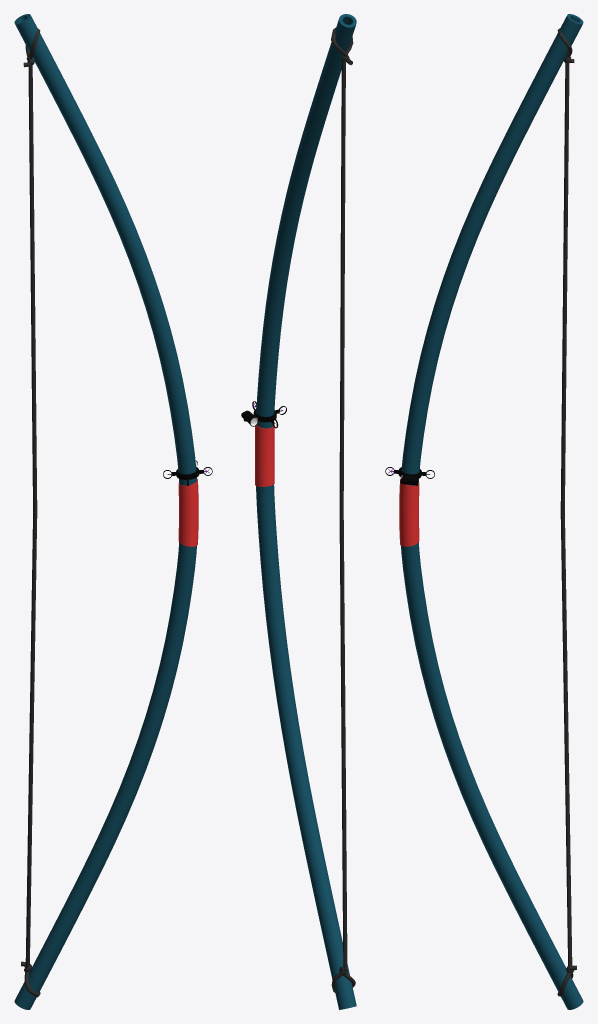
File: Bow.glb
The picture shows the model from 3 angles, left to right: view 1: azimuth 90°, elevation 25°; view 2: azimuth 210°, elevation 25°; view 3: azimuth 270°, elevation 25°; orthographic projection.
Parts seen in each view (by area): view 1: PipeBow, PipeBowString, PipeBowTape; view 2: PipeBow, PipeBowString, PipeBowTape, PipeBowScopeHolder; view 3: PipeBow, PipeBowString, PipeBowTape.
Part boxes in pixels (left/top/right/bottom): PipeBow: left=14, top=14, right=196, bottom=1009; PipeBowString: left=21, top=28, right=40, bottom=997; PipeBowTape: left=178, top=478, right=198, bottom=546; PipeBow: left=256, top=14, right=356, bottom=1009; PipeBowString: left=331, top=27, right=355, bottom=992; PipeBowTape: left=255, top=423, right=274, bottom=486; PipeBowScopeHolder: left=241, top=401, right=286, bottom=428; PipeBow: left=401, top=14, right=583, bottom=1009; PipeBowString: left=557, top=28, right=576, bottom=996; PipeBowTape: left=399, top=479, right=419, bottom=546.
Bounding box in the file's own units: 0.0535 × 1.2 × 0.217.
